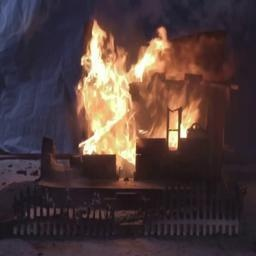fire: (67, 16, 220, 183)
